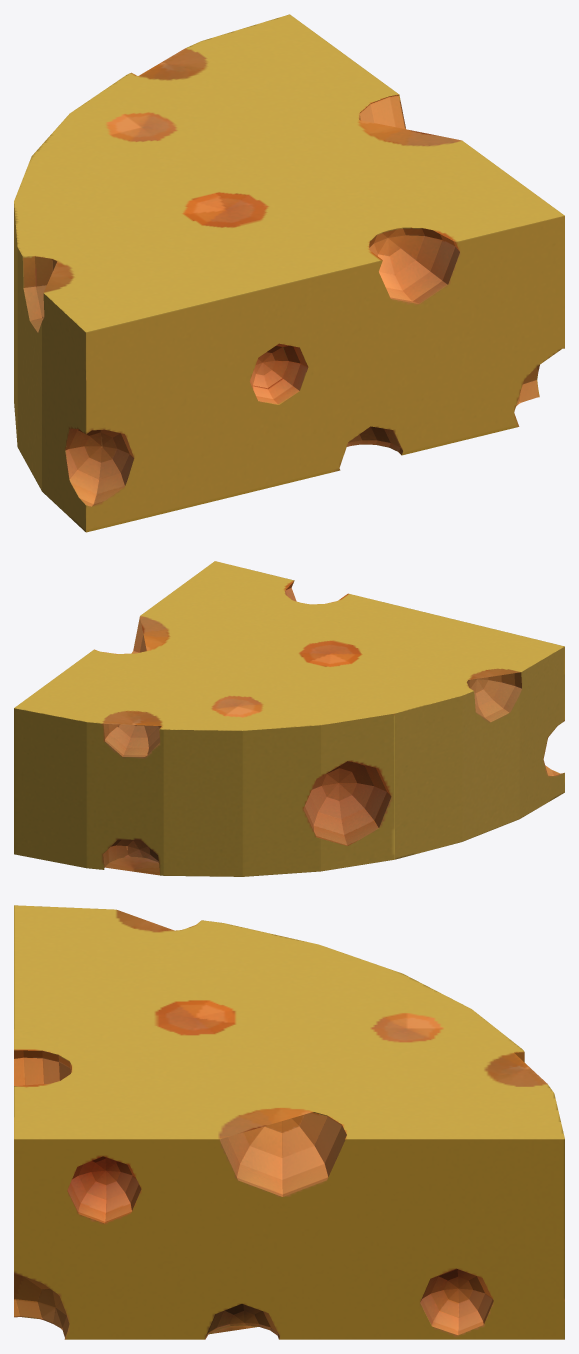
File: Cheese.fbx
The picture shows the model from 3 angles, top to bottom: view 1: azimuth 30°, elevation 25°; view 2: azimuth 150°, elevation 25°; view 3: azimuth 270°, elevation 25°; orthographic projection. The views are drawn at different scales.
Parts seen in each view (by area): view 1: Cheese; view 2: Cheese; view 3: Cheese.
Boxes of the visible parts, <box> form: Cheese: <box>14,14,564,532</box>; Cheese: <box>14,561,564,876</box>; Cheese: <box>14,905,564,1339</box>.
Bounding box in the file's own units: 4.01 × 1.6 × 3.99.
